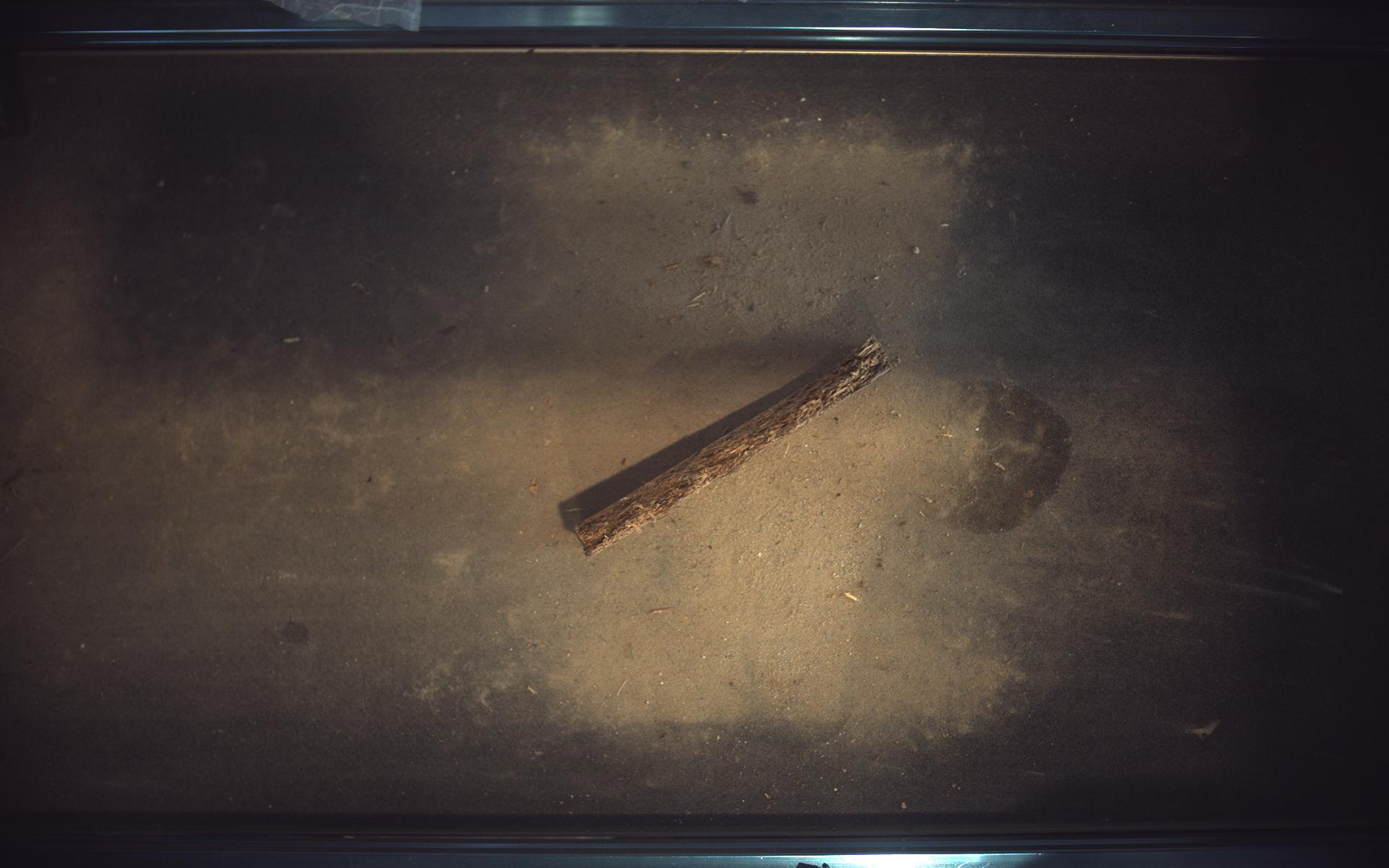wood: (576, 337, 895, 556)
